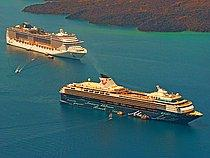Ship: (58, 70, 209, 130), (3, 17, 90, 63)
